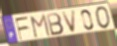0: (81, 9, 94, 31)
B: (46, 12, 65, 37)
F: (14, 15, 30, 42)
M: (30, 13, 52, 40)
O: (95, 5, 112, 30)
V: (61, 9, 77, 35)
